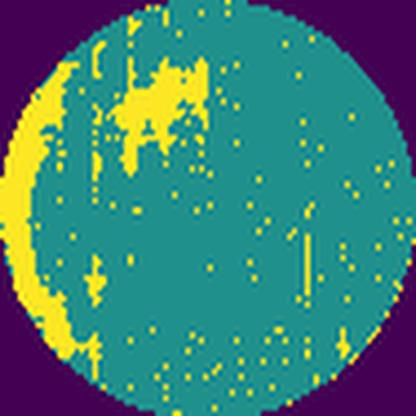Edge-Loc: (0, 43, 106, 388)
